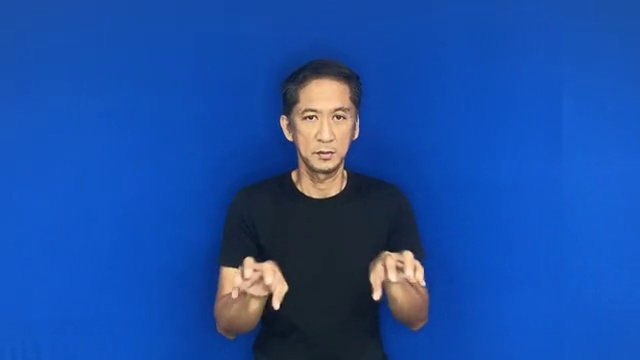egg: (227, 246, 432, 310)
